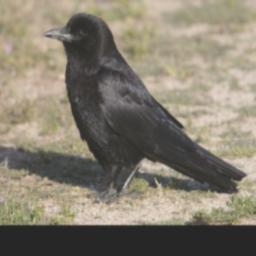Crow: (41, 11, 248, 205)
